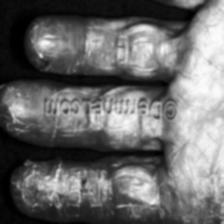Non-Cancerous Skin Condition: (15, 160, 112, 224)
